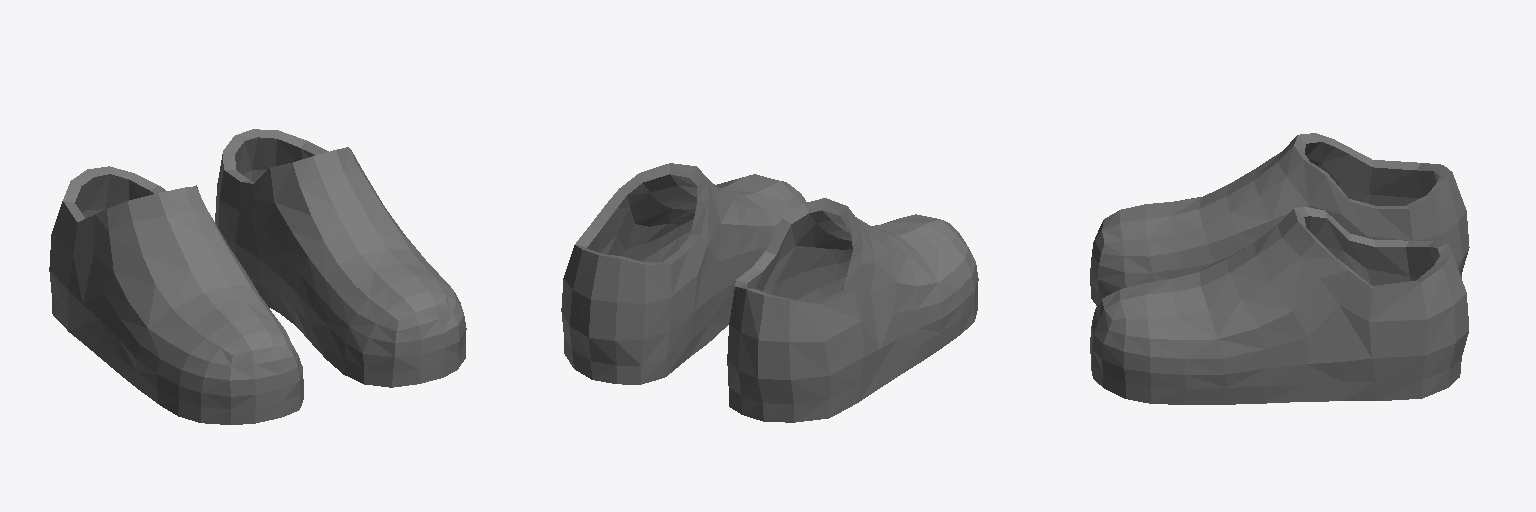
File: LowPoly_FilhaAristocrata_Sapatos.obj
The picture shows the model from 3 angles: view 1: azimuth 30°, elevation 25°; view 2: azimuth 150°, elevation 25°; view 3: azimuth 270°, elevation 25°; orthographic projection.
Visible parts, largest first — view 1: LowPoly_FilhaAristocrata_Sapatos; view 2: LowPoly_FilhaAristocrata_Sapatos; view 3: LowPoly_FilhaAristocrata_Sapatos.
Boxes of the visible parts, x1,y1,x2,y2 form: LowPoly_FilhaAristocrata_Sapatos: [49, 129, 466, 424]; LowPoly_FilhaAristocrata_Sapatos: [561, 163, 978, 422]; LowPoly_FilhaAristocrata_Sapatos: [1090, 133, 1469, 404].
Bounding box in the file's own units: 14.75 × 7.59 × 16.48.